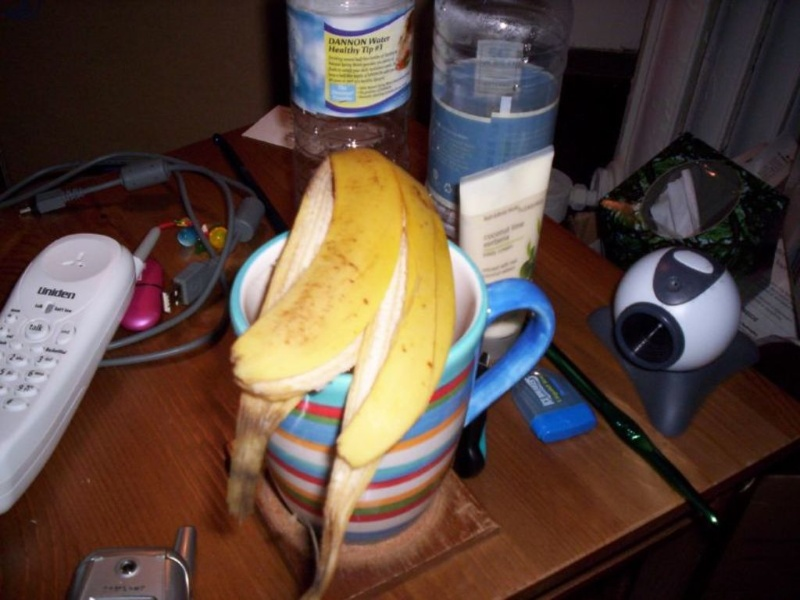banana: (259, 135, 454, 473)
cup: (210, 226, 559, 566)
